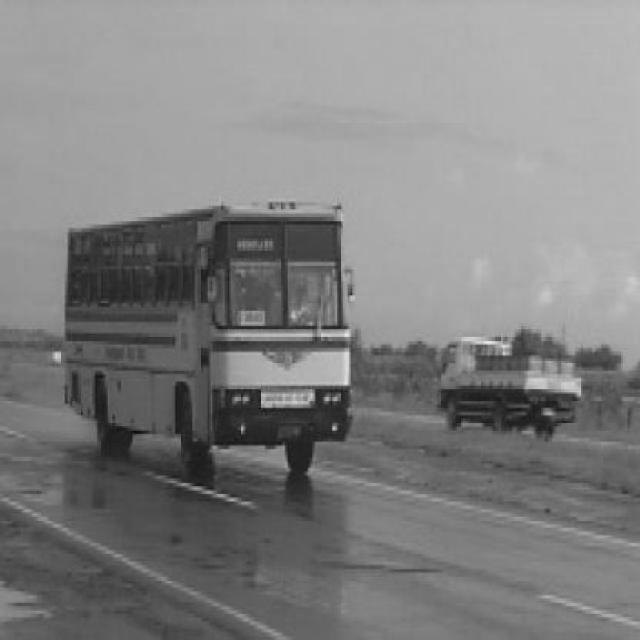Bus: (60, 202, 355, 487)
